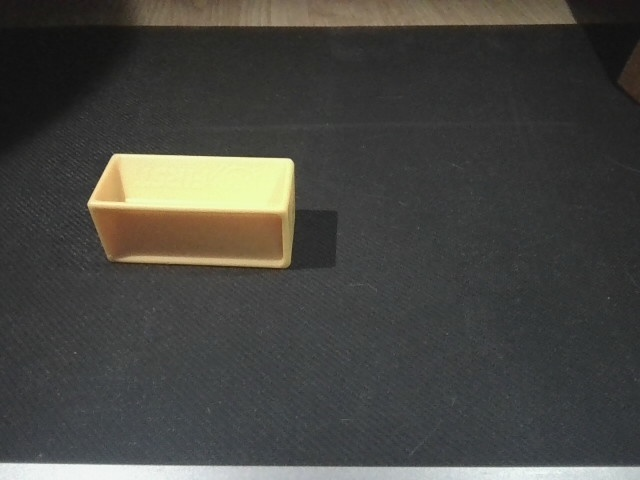YellowSample: (86, 151, 298, 269)
